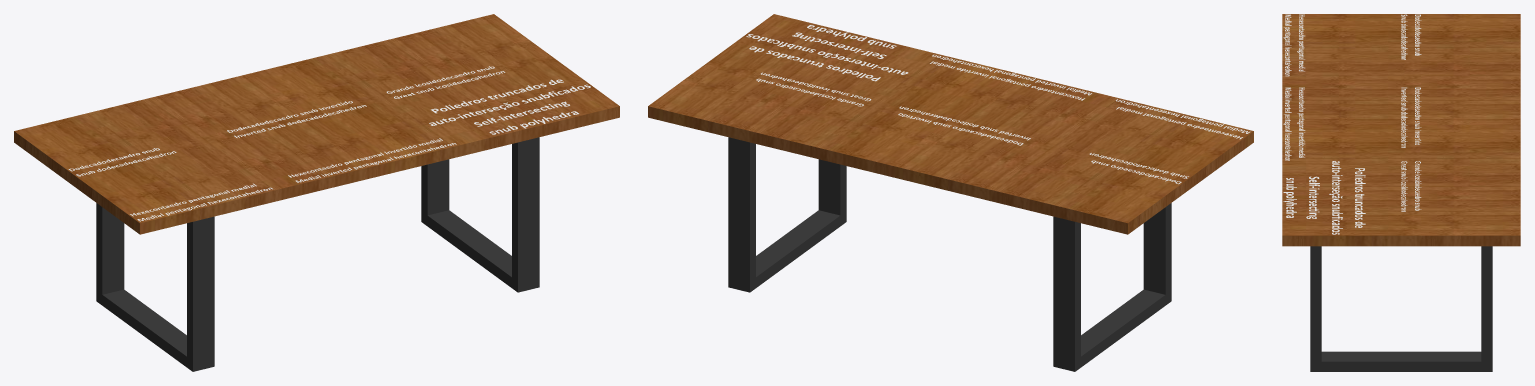
File: selfinterSnubTrunc1.glb
3 views of the same model, side by side, from view 1: azimuth 30°, elevation 25°; view 2: azimuth 150°, elevation 25°; view 3: azimuth 270°, elevation 25° (orthographic). The views are drawn at different scales.
Parts seen in each view (by area): view 1: object 1, Composant#1 (×2), Poliedros trunca#3, Hexecontaedro pe#1, Dodecadodecaedro#1, Hexecontaedro pe, Grande icosidode; view 2: object 1, Composant#1 (×2), Poliedros trunca#3, Hexecontaedro pe#1, Hexecontaedro pe, Dodecadodecaedro#1, Grande icosidode; view 3: object 1, Composant#1, Poliedros trunca#3, Hexecontaedro pe#1, Hexecontaedro pe, Dodecadodecaedro#1, Grande icosidode, Dodecadodecaedro.
Part boxes in pixels (left/top/right/bottom): object 1: left=14, top=14, right=619, bottom=234; Composant#1 (×2): left=96, top=137, right=539, bottom=371; Poliedros trunca#3: left=429, top=79, right=590, bottom=134; Hexecontaedro pe#1: left=288, top=138, right=456, bottom=182; Dodecadodecaedro#1: left=227, top=101, right=366, bottom=137; Hexecontaedro pe: left=130, top=183, right=272, bottom=221; Grande icosidode: left=386, top=66, right=505, bottom=98; object 1: left=648, top=14, right=1253, bottom=234; Composant#1 (×2): left=728, top=137, right=1171, bottom=371; Poliedros trunca#3: left=746, top=25, right=908, bottom=81; Hexecontaedro pe#1: left=930, top=54, right=1091, bottom=100; Hexecontaedro pe: left=1116, top=99, right=1250, bottom=139; Dodecadodecaedro#1: left=898, top=106, right=1030, bottom=145; Grande icosidode: left=756, top=72, right=871, bottom=106; object 1: left=1282, top=14, right=1520, bottom=246; Composant#1: left=1310, top=246, right=1492, bottom=371; Poliedros trunca#3: left=1283, top=161, right=1365, bottom=234; Hexecontaedro pe#1: left=1283, top=87, right=1305, bottom=160; Hexecontaedro pe: left=1283, top=14, right=1304, bottom=76; Dodecadodecaedro#1: left=1401, top=87, right=1421, bottom=147; Grande icosidode: left=1401, top=161, right=1421, bottom=211; Dodecadodecaedro: left=1401, top=14, right=1421, bottom=59.
Bounding box in the file's own units: 2.2 × 0.7711 × 1.
3 materials, 1 textured.
